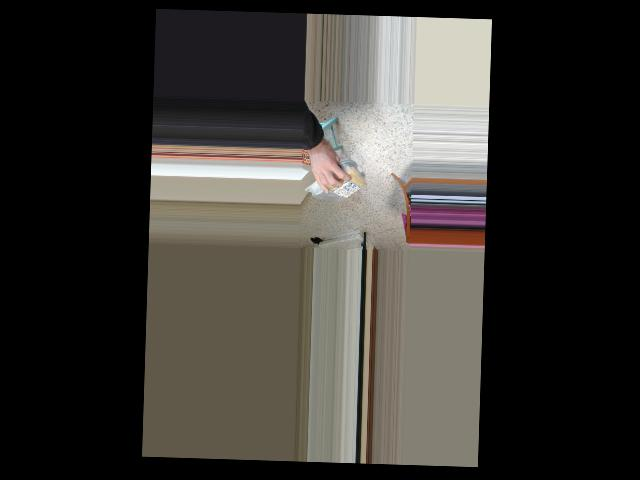cheese: (308, 168, 373, 197)
